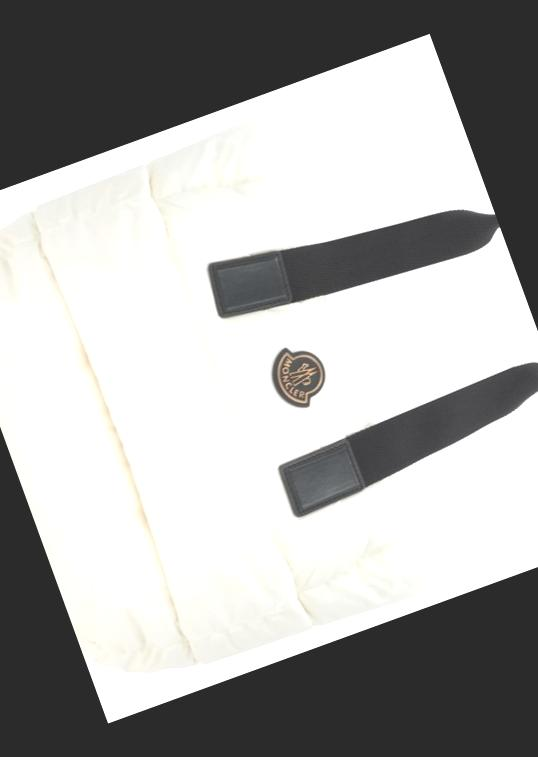MONCLER: (262, 337, 336, 416)
